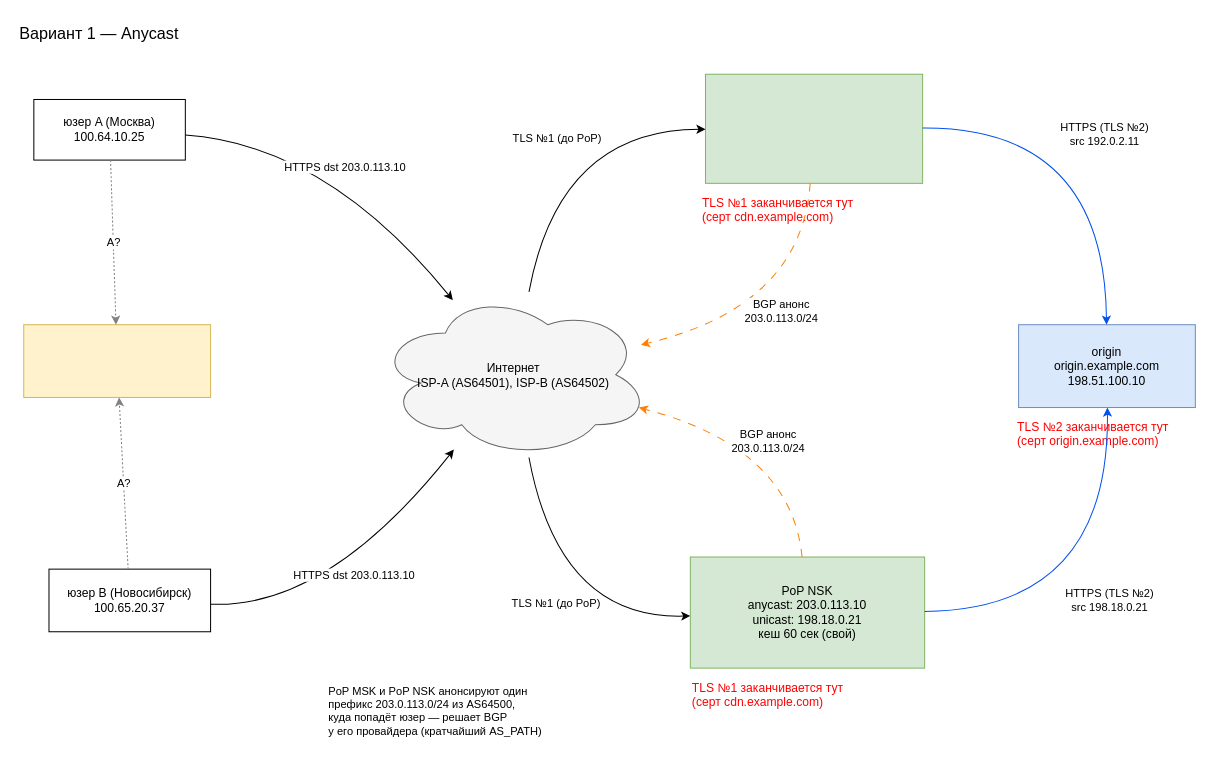
Image size: 1224x762. Some labels were removed from this diagram. The centre of each missing label's shape, as x and y in pixels:
"DNS example.com cdn.example.com A 203.0.113.10 (одна запись)" goes at [117,360].
"PoP MSK anycast: 203.0.113.10 unicast: 192.0.2.11 кеш 60 сек" goes at [813,128].
